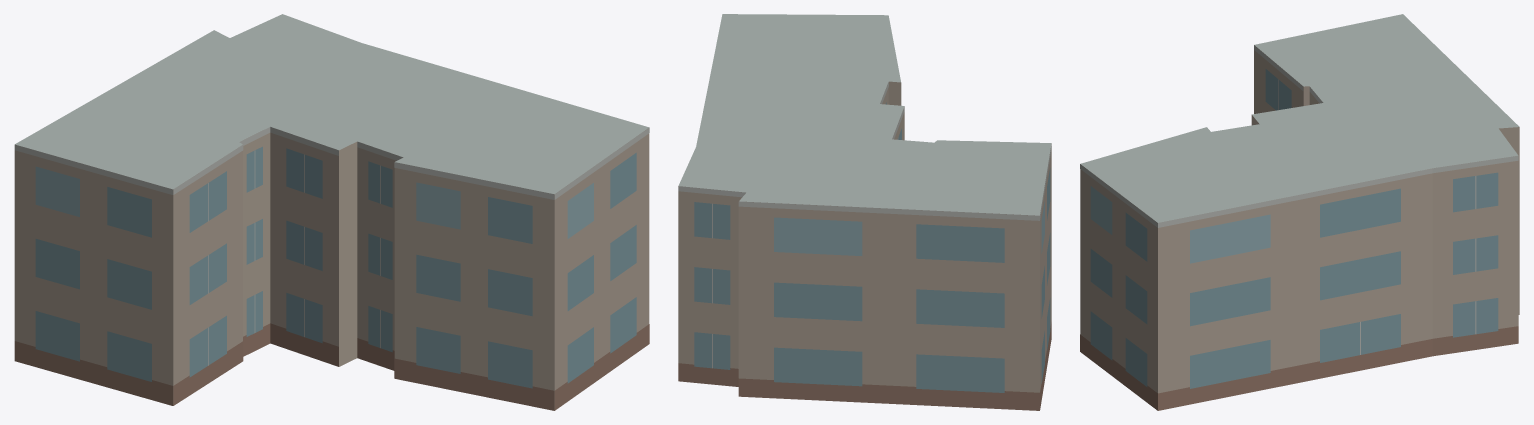
Rendered from survey-upis-32967454.glb.
The picture shows the model from 3 angles, left to right: view 1: azimuth 30°, elevation 25°; view 2: azimuth 150°, elevation 25°; view 3: azimuth 270°, elevation 25°; orthographic projection. The views are drawn at different scales.
Parts seen in each view (by area): view 1: survey-upis-32967454.tmp; view 2: survey-upis-32967454.tmp; view 3: survey-upis-32967454.tmp.
Boxes of the visible parts, left/top/right/bottom form: survey-upis-32967454.tmp: left=14, top=14, right=649, bottom=410; survey-upis-32967454.tmp: left=678, top=14, right=1051, bottom=410; survey-upis-32967454.tmp: left=1080, top=14, right=1519, bottom=410.
Size of the model in its own units: 21.83 by 9.15 by 19.41.
